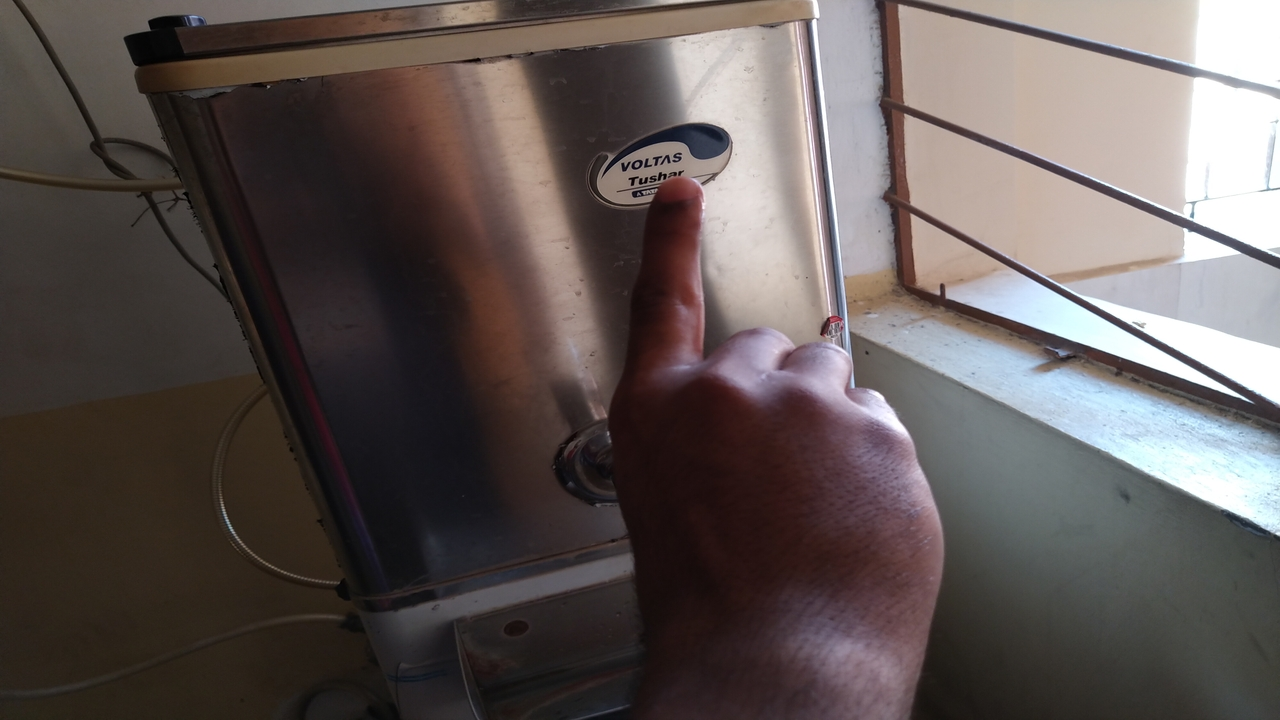fingertip: (648, 168, 706, 226)
